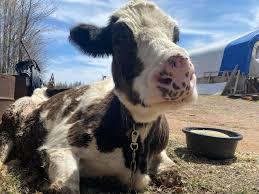cow: (0, 0, 197, 194)
